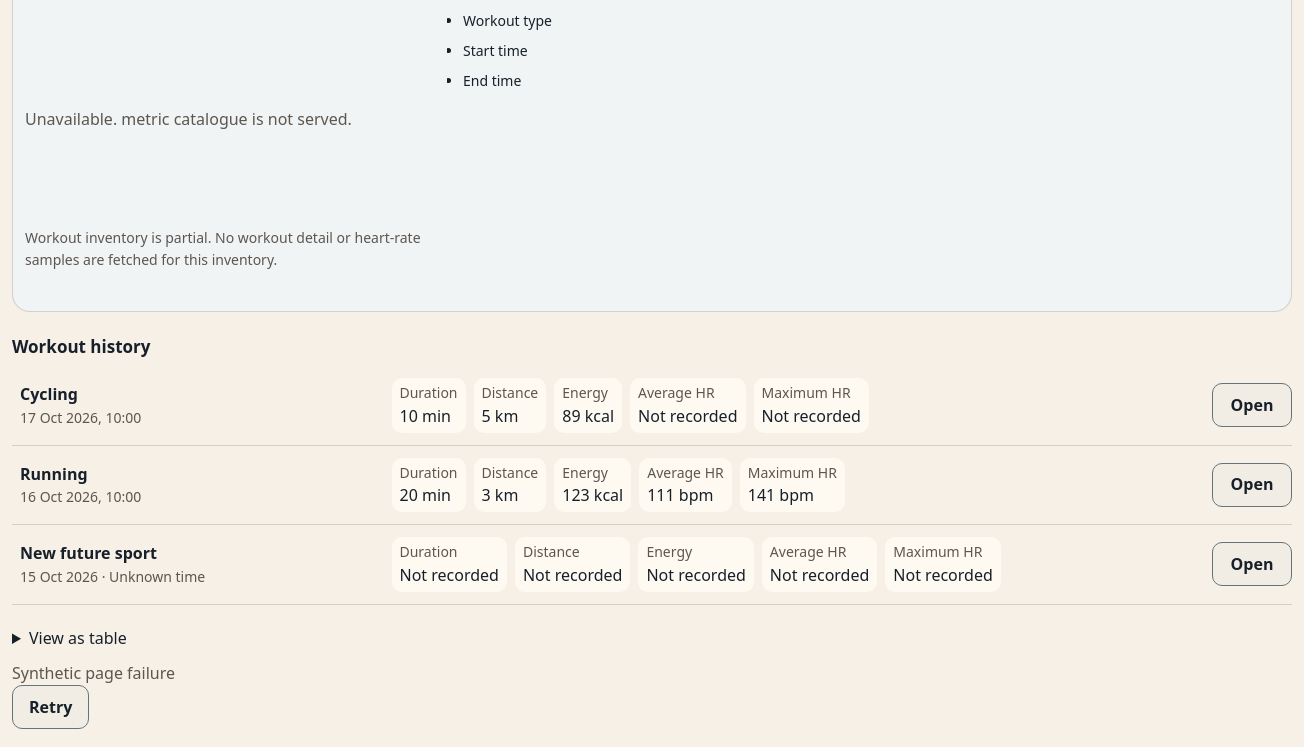
it: Workouts section › keeps loaded totals scoped when a subsequent page fails
(page scrolled)
Expected: the text "Synthetic page failure" is shown, [12, 662, 175, 684]
Click the heading "View as table". click: (78, 638)
box: [29, 627, 127, 649]
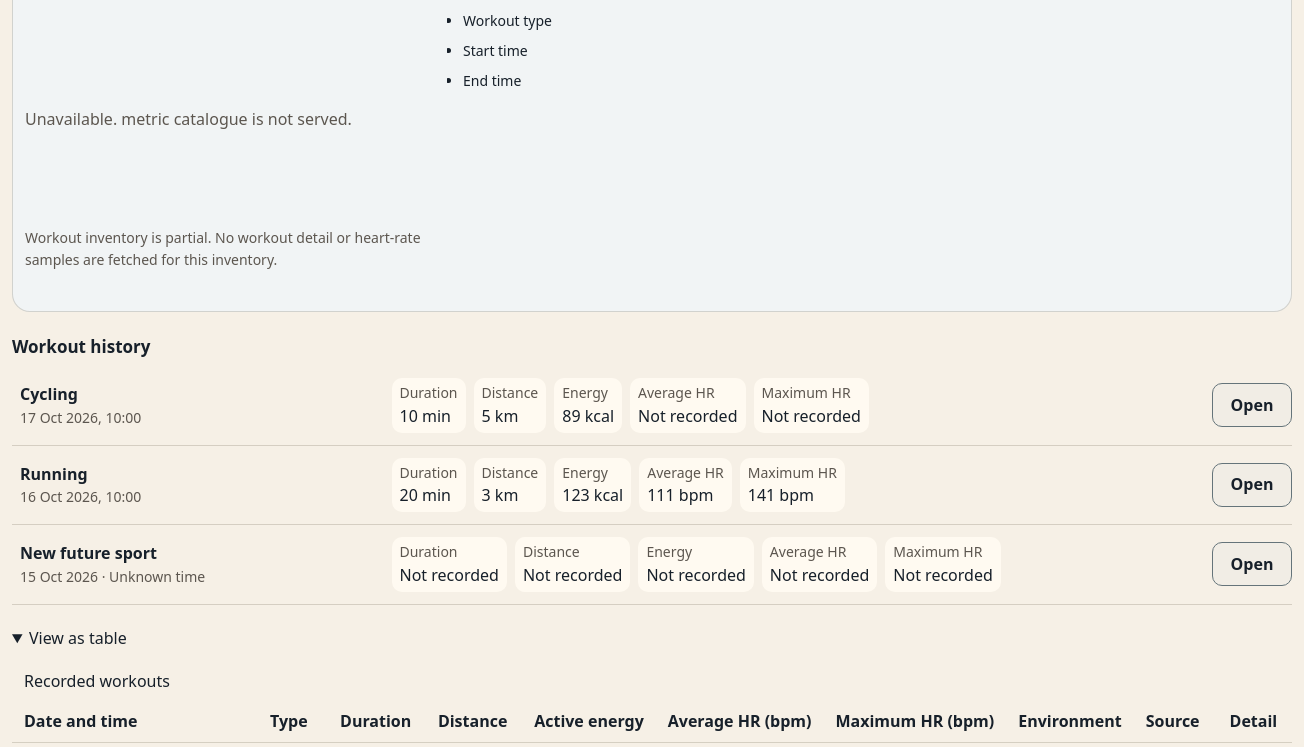
Expected: the number of rows is 4
